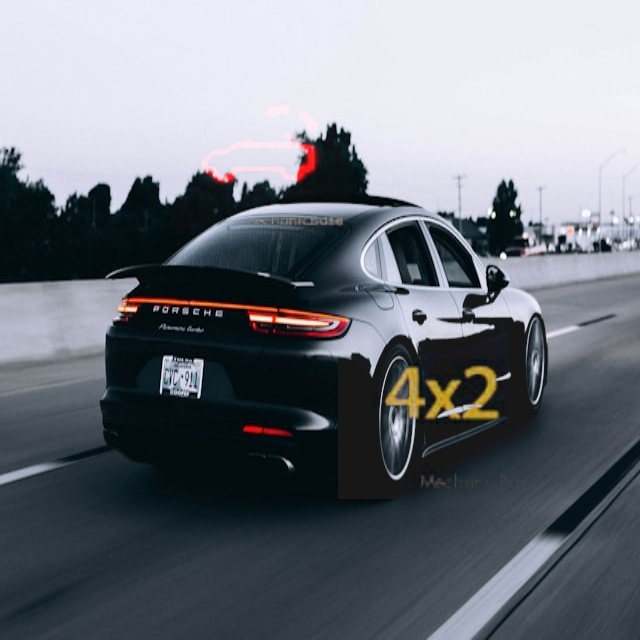symbol: (338, 291, 546, 499), (172, 56, 350, 234)
